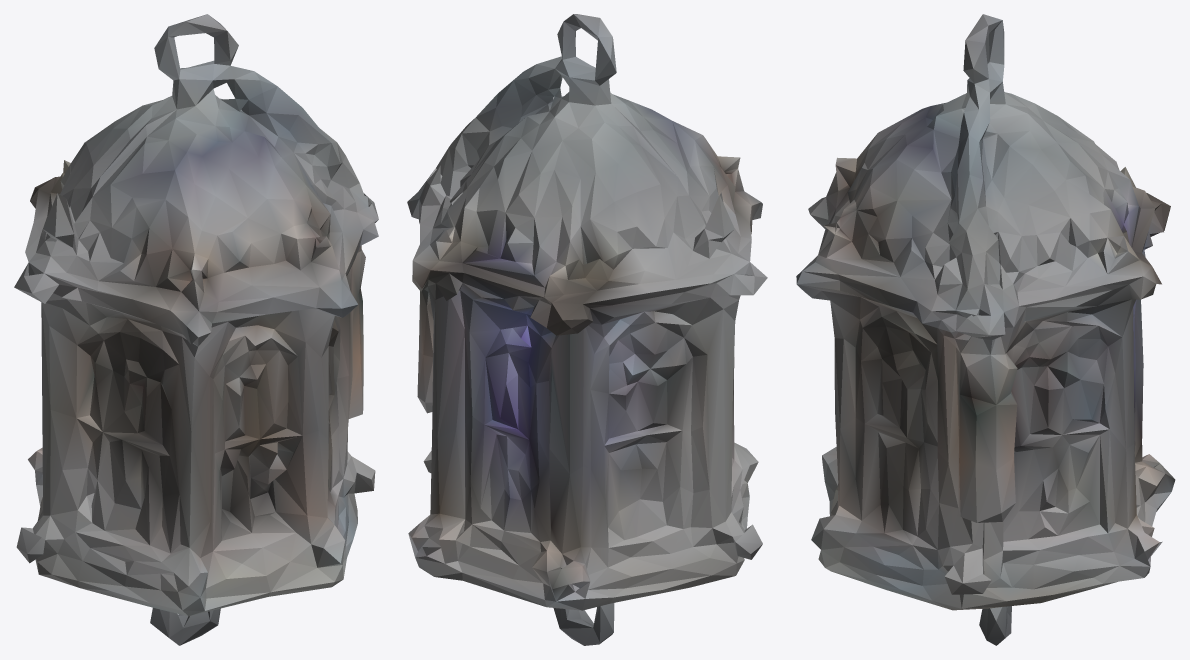
File: farol_colgante.glb
3 renders of one model, left to right at view 1: azimuth 30°, elevation 25°; view 2: azimuth 150°, elevation 25°; view 3: azimuth 270°, elevation 25°, orthographic.
Visible parts, largest first — view 1: Modelo; view 2: Modelo; view 3: Modelo.
Part boxes in pixels (x1=…): Modelo: x1=14, y1=14, x2=378, y2=645; Modelo: x1=407, y1=14, x2=767, y2=645; Modelo: x1=796, y1=14, x2=1175, y2=645.
Size of the model in its own units: 1.06 by 1.8 by 0.9909.
